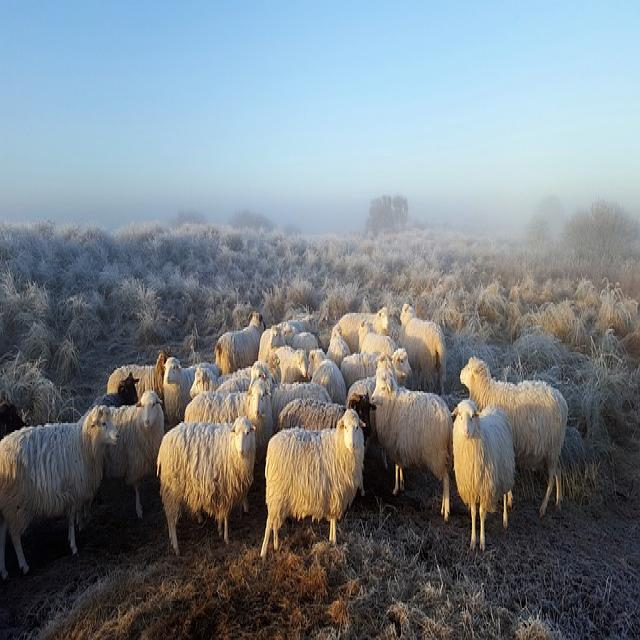goat: (0, 412, 113, 580), (460, 357, 568, 517), (369, 356, 459, 521), (263, 421, 365, 553), (157, 420, 252, 551), (84, 393, 169, 519), (451, 402, 516, 551)
